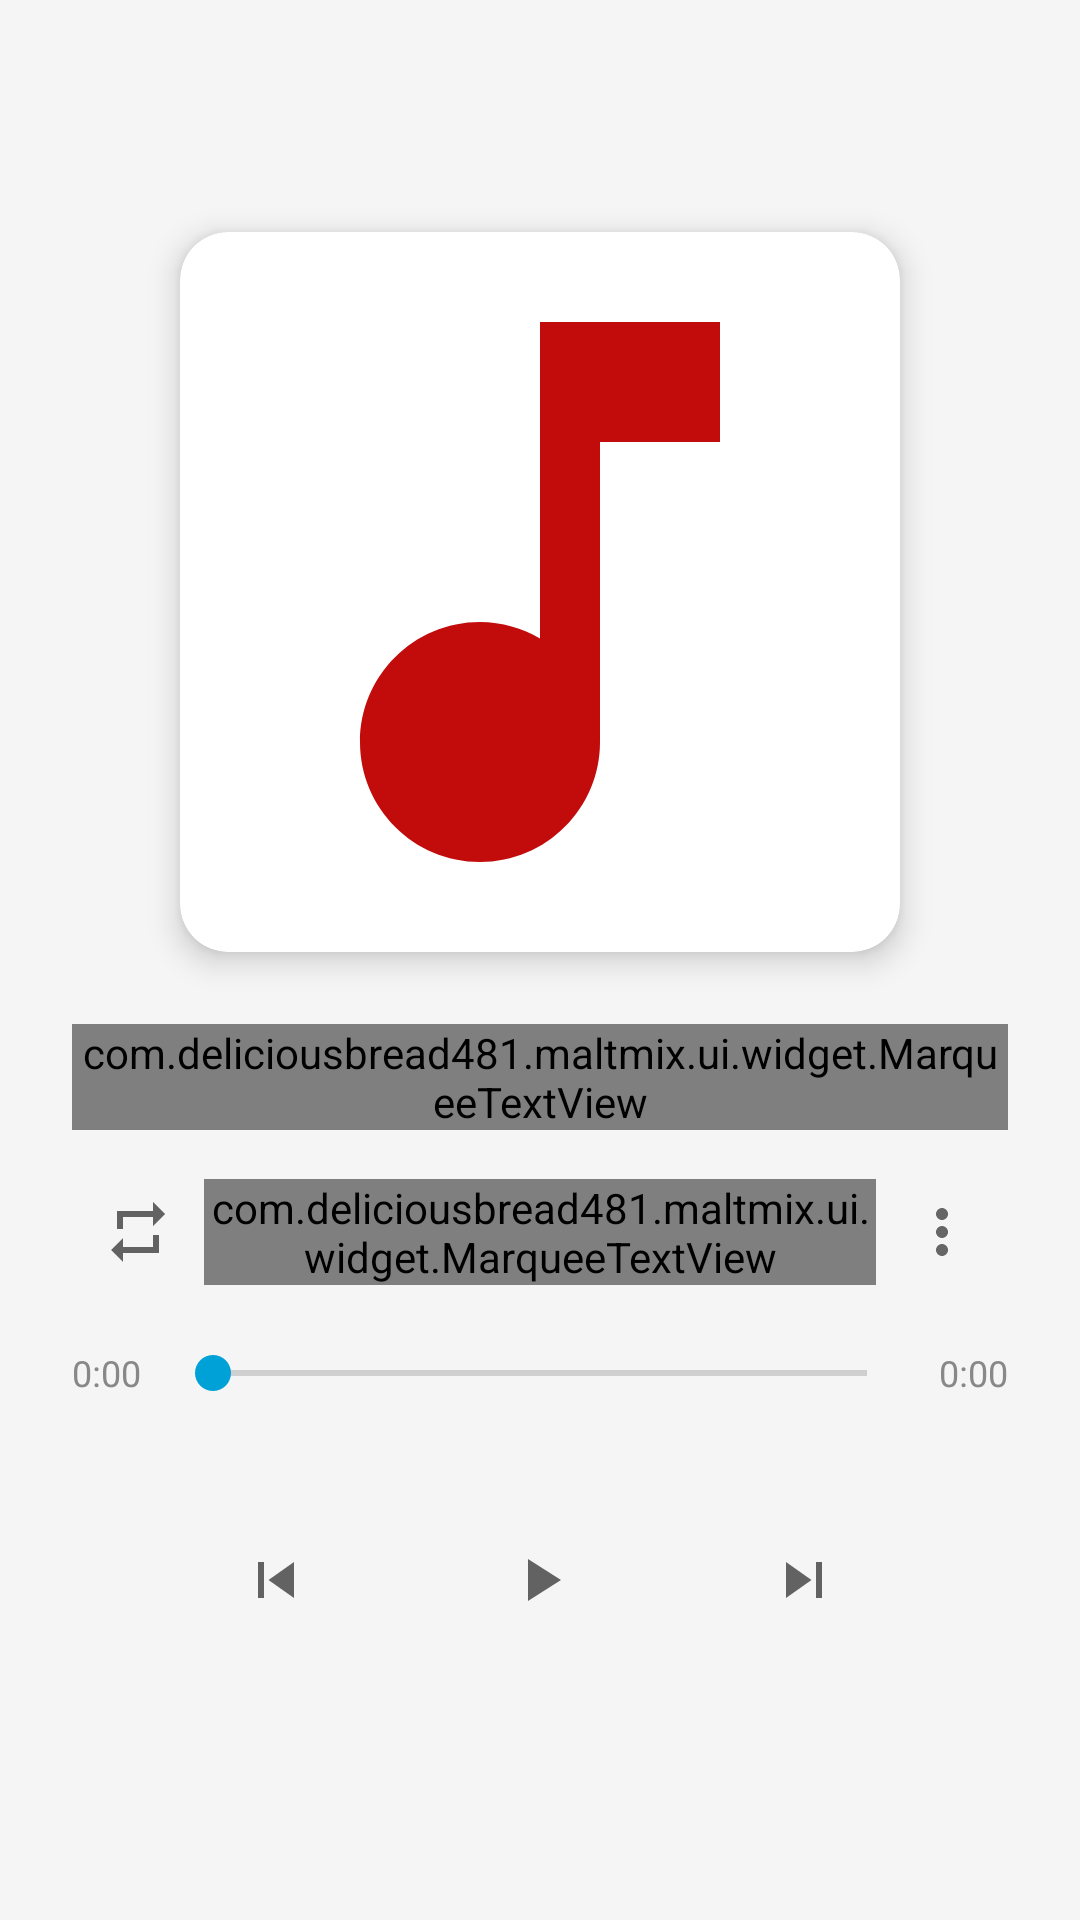

Icon click points for this 1080 x 1920 phone screenshot, format [x,y]:
play: [544,1580]
skip next: [804,1580]
skip previous: [276,1580]
播放顺序: [138,1232]
选项: [942,1232]
